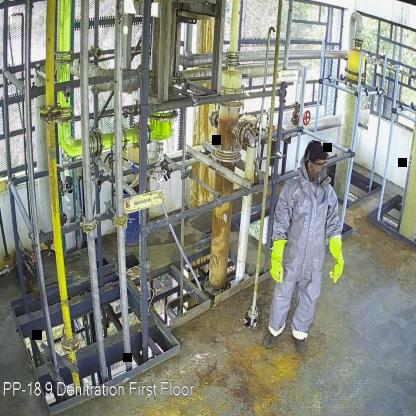mask: (314, 166, 332, 192)
